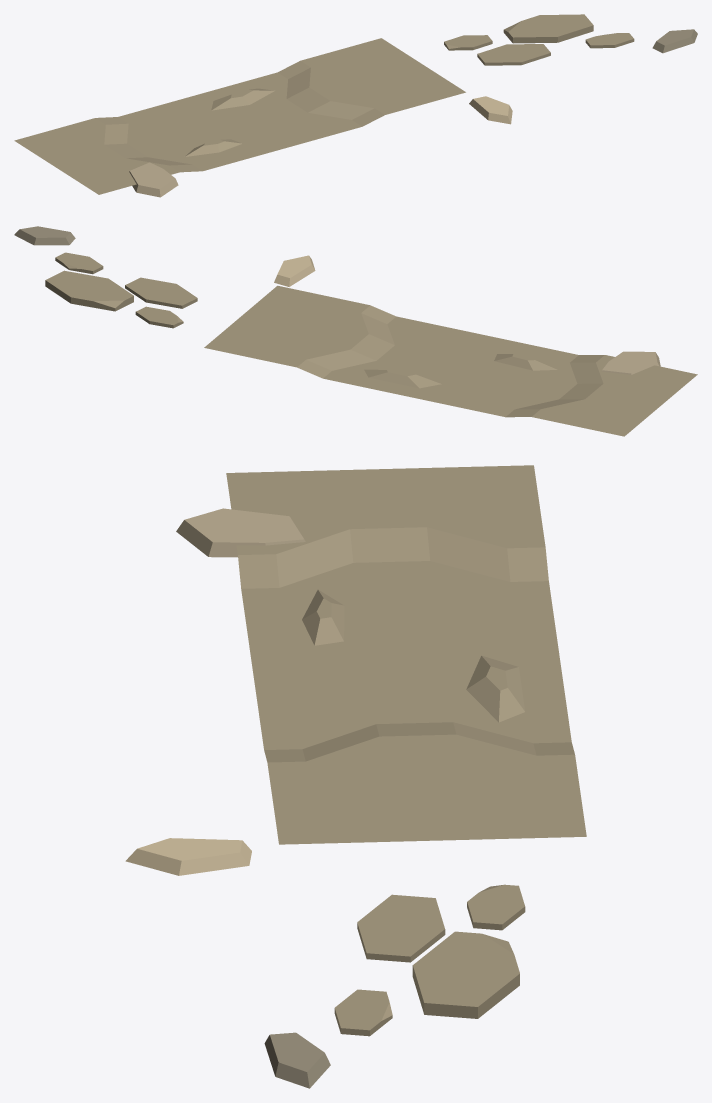
Rendered from road-stone-fragments.glb.
3 views of the same model, one above another, from view 1: azimuth 30°, elevation 25°; view 2: azimuth 150°, elevation 25°; view 3: azimuth 270°, elevation 25° (orthographic). The views are drawn at different scales.
Parts seen in each view (by area): view 1: road_fragment_00_00, road_fragment_02_00, road_chip_04_00, road_chip_06_00, road_chip_08_00; view 2: road_fragment_00_00, road_fragment_02_00, road_chip_04_00, road_chip_08_00, road_chip_06_00; view 3: road_fragment_00_00, road_fragment_02_00, road_chip_04_00, road_chip_06_00, road_chip_08_00.
Part boxes in pixels (x1,y1,x2,y2): road_fragment_00_00: [14, 38, 465, 194]; road_fragment_02_00: [444, 14, 634, 65]; road_chip_04_00: [129, 162, 178, 197]; road_chip_06_00: [469, 96, 512, 124]; road_chip_08_00: [652, 29, 697, 53]; road_fragment_00_00: [204, 285, 697, 436]; road_fragment_02_00: [45, 252, 197, 328]; road_chip_04_00: [601, 351, 660, 374]; road_chip_08_00: [14, 226, 75, 245]; road_chip_06_00: [274, 255, 315, 286]; road_fragment_00_00: [226, 465, 586, 844]; road_fragment_02_00: [334, 884, 525, 1036]; road_chip_04_00: [176, 508, 305, 557]; road_chip_06_00: [125, 838, 251, 875]; road_chip_08_00: [264, 1032, 330, 1088].
Size of the model in its own units: 4.94 by 0.0487 by 1.57.
